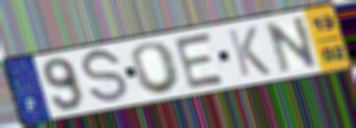9: (38, 55, 87, 113)
E: (172, 29, 229, 92)
K: (225, 24, 274, 79)
N: (262, 13, 321, 75)
O: (129, 40, 185, 97)
S: (81, 46, 130, 108)
